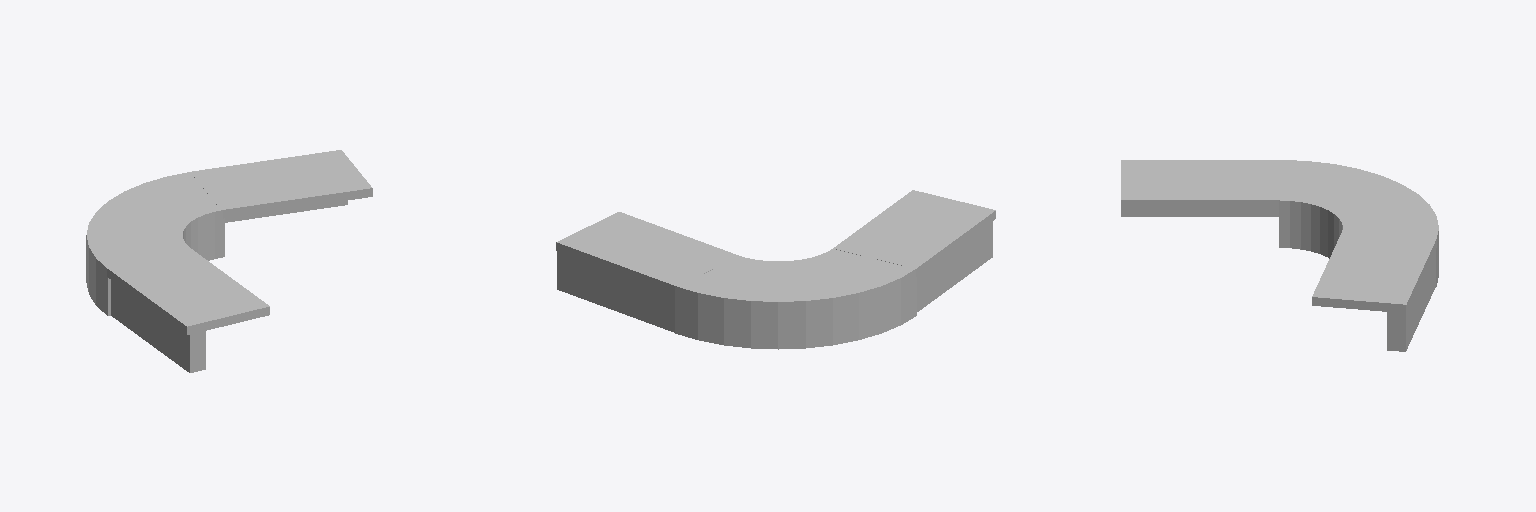
The model's file is Big desk.obj.
3 views of the same model, side by side, from view 1: azimuth 30°, elevation 25°; view 2: azimuth 150°, elevation 25°; view 3: azimuth 270°, elevation 25° (orthographic).
Visible parts, largest first — view 1: Big desk; view 2: Big desk; view 3: Big desk.
Boxes of the visible parts, <box> form: Big desk: <box>86,150,372,372</box>; Big desk: <box>556,190,995,349</box>; Big desk: <box>1121,160,1438,351</box>.
Bounding box in the file's own units: 10.71 × 1.64 × 9.93.